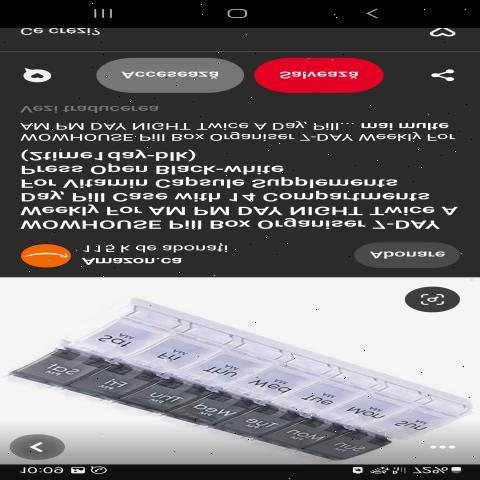PillBox: (14, 289, 480, 463)
